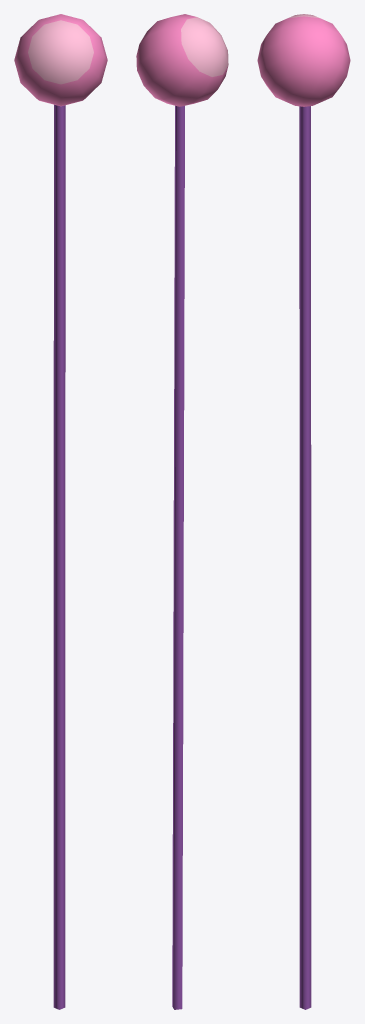
File: tree03.FBX
3 views of the same model, side by side, from view 1: azimuth 90°, elevation 25°; view 2: azimuth 150°, elevation 25°; view 3: azimuth 270°, elevation 25° (orthographic).
Visible parts, largest first — view 1: tree03; view 2: tree03; view 3: tree03.
Boxes of the visible parts, x1,y1,x2,y2 form: tree03: (14,14,107,1009); tree03: (136,14,228,1009); tree03: (257,14,350,1009).
Bounding box in the file's own units: 4.92 × 57.87 × 4.95.
Materials: 1 (1 with a texture image).
